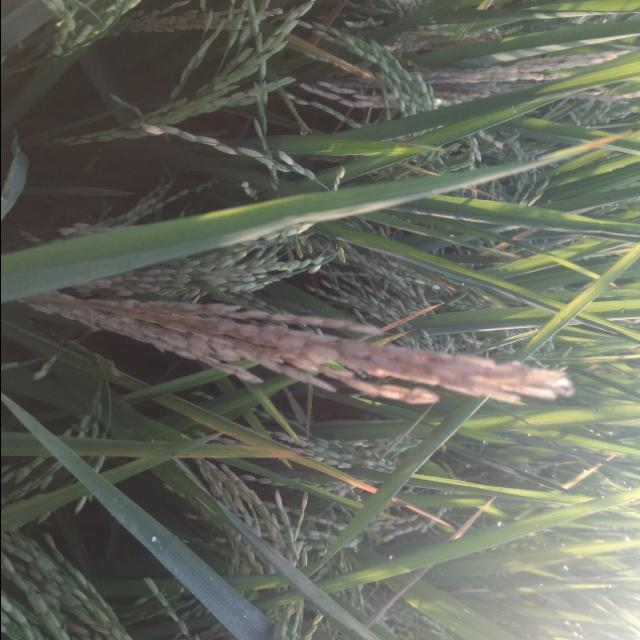Brown spot: (186, 414, 452, 529)
